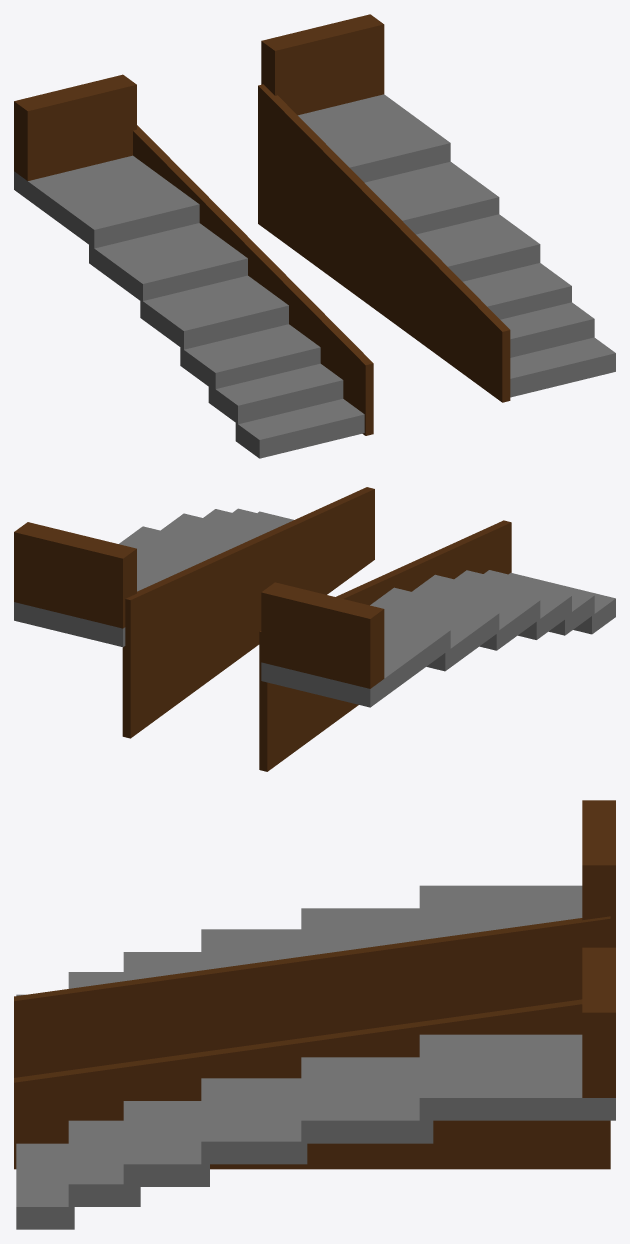
File: Tribuene_Entry.fbx
3 views of the same model, one above another, from view 1: azimuth 30°, elevation 25°; view 2: azimuth 150°, elevation 25°; view 3: azimuth 270°, elevation 25° (orthographic). The views are drawn at different scales.
Parts seen in each view (by area): view 1: Cube.003; view 2: Cube.003; view 3: Cube.003.
Part boxes in pixels (x1,y1,x2,y2): Cube.003: (14, 14, 615, 458); Cube.003: (14, 487, 615, 771); Cube.003: (14, 800, 615, 1229).
Bounding box in the file's own units: 1600 × 773 × 1917.
